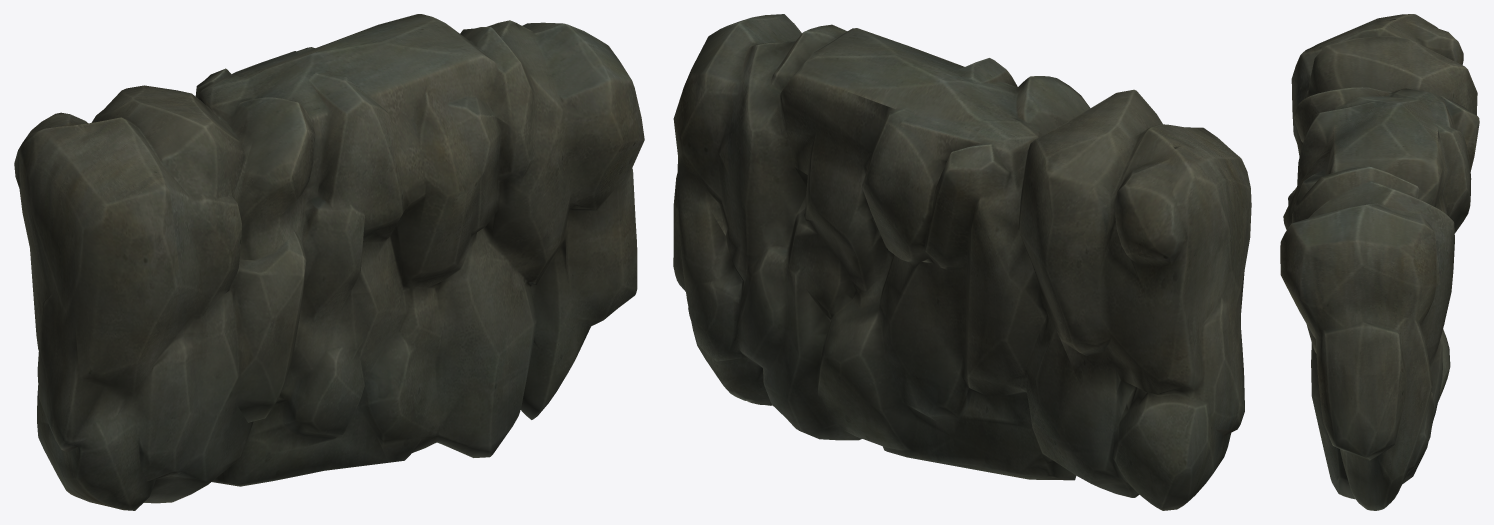
The model's file is cliffWall_small_1b.fbx.
3 renders of one model, left to right at view 1: azimuth 30°, elevation 25°; view 2: azimuth 150°, elevation 25°; view 3: azimuth 270°, elevation 25°, orthographic. The views are drawn at different scales.
Parts seen in each view (by area): view 1: highCliff_lowp1b; view 2: highCliff_lowp1b; view 3: highCliff_lowp1b.
Boxes of the visible parts, bbox=[...] form: highCliff_lowp1b: bbox=[14, 14, 644, 510]; highCliff_lowp1b: bbox=[673, 14, 1251, 510]; highCliff_lowp1b: bbox=[1280, 14, 1479, 510].
Size of the model in its own units: 915 by 629 by 335.
